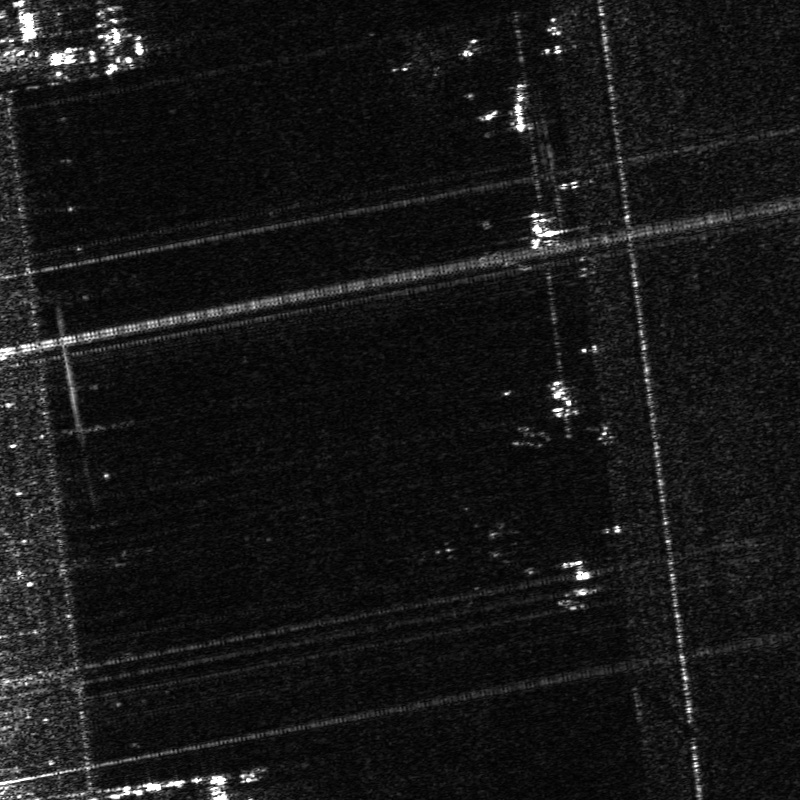A220: (382, 27, 468, 101)
Boeing787: (407, 489, 534, 611)
